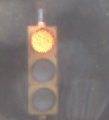Red: (19, 16, 73, 119)
